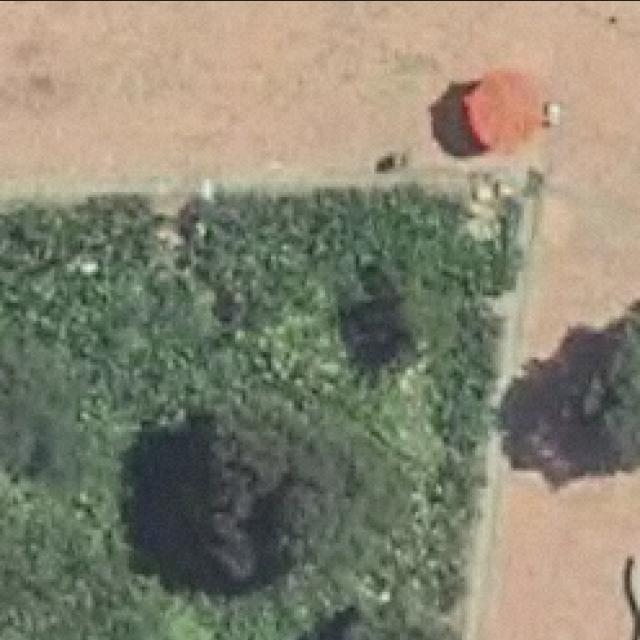vendedor_ambulante: (461, 63, 552, 157)
